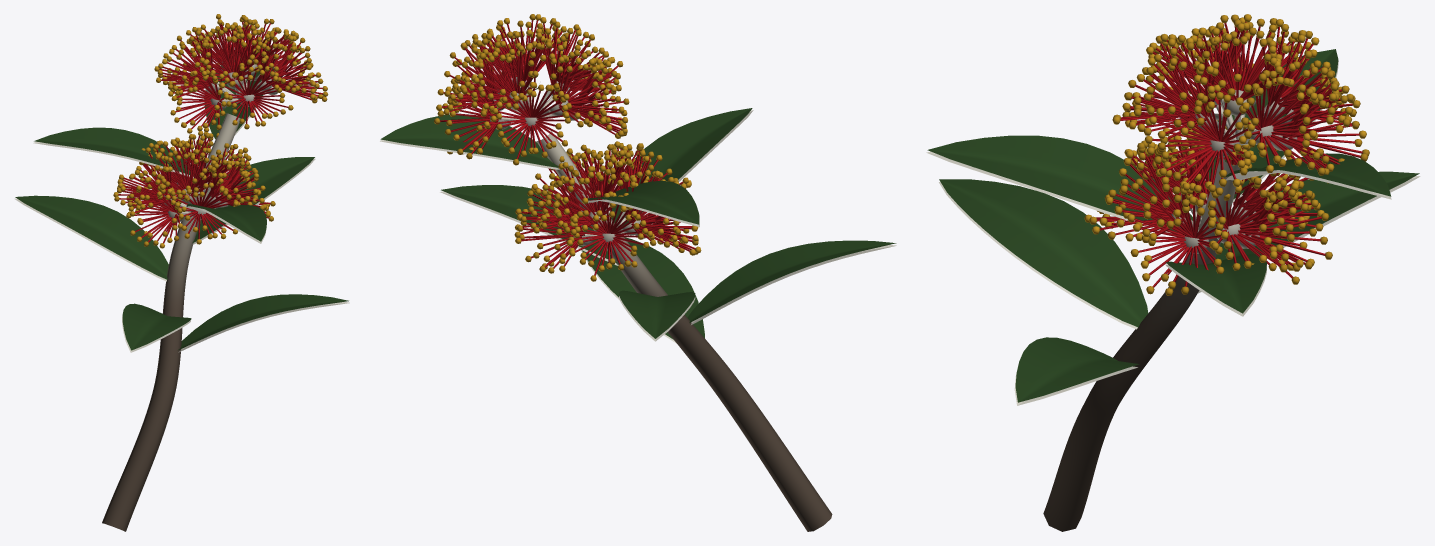
Rendered from pohutukawa-hero.glb.
The picture shows the model from 3 angles, left to right: view 1: azimuth 30°, elevation 25°; view 2: azimuth 150°, elevation 25°; view 3: azimuth 270°, elevation 25°; orthographic projection. The views are drawn at different scales.
Visible parts, largest first — view 1: flowers, leaves, stem; view 2: flowers, leaves, stem; view 3: flowers, leaves, stem.
Boxes of the visible parts, left/top/right/bottom form: flowers: left=113, top=14, right=328, bottom=248; leaves: left=14, top=44, right=349, bottom=352; stem: left=102, top=69, right=272, bottom=531; flowers: left=434, top=14, right=701, bottom=281; leaves: left=380, top=108, right=896, bottom=343; stem: left=501, top=81, right=832, bottom=531; flowers: left=1084, top=14, right=1369, bottom=295; leaves: left=926, top=49, right=1420, bottom=405; stem: left=1043, top=99, right=1282, bottom=531.
Bounding box in the file's own units: 0.0616 × 0.0865 × 0.0611.
